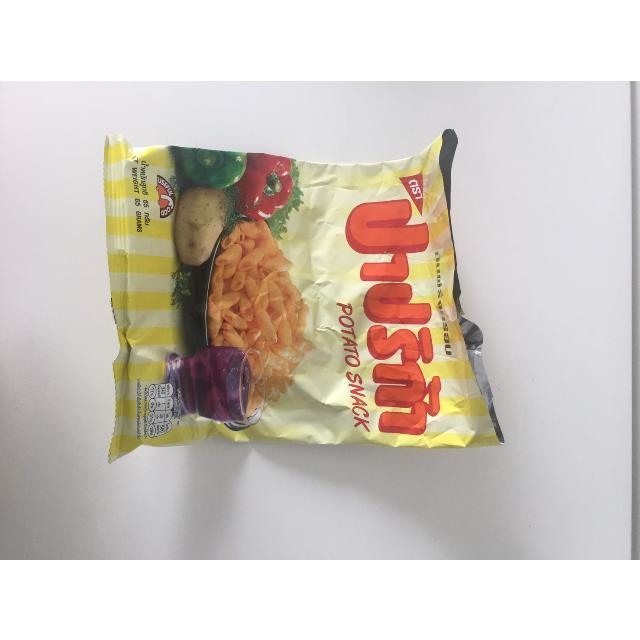Paquete de plastico: (110, 135, 482, 453)
